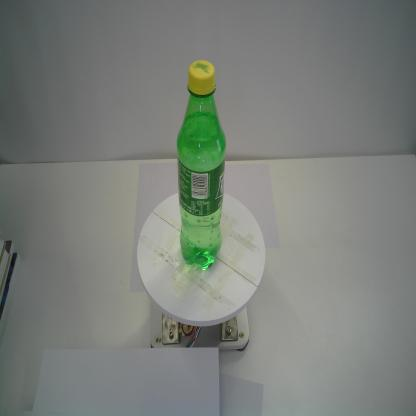Drink: (174, 56, 228, 272)
